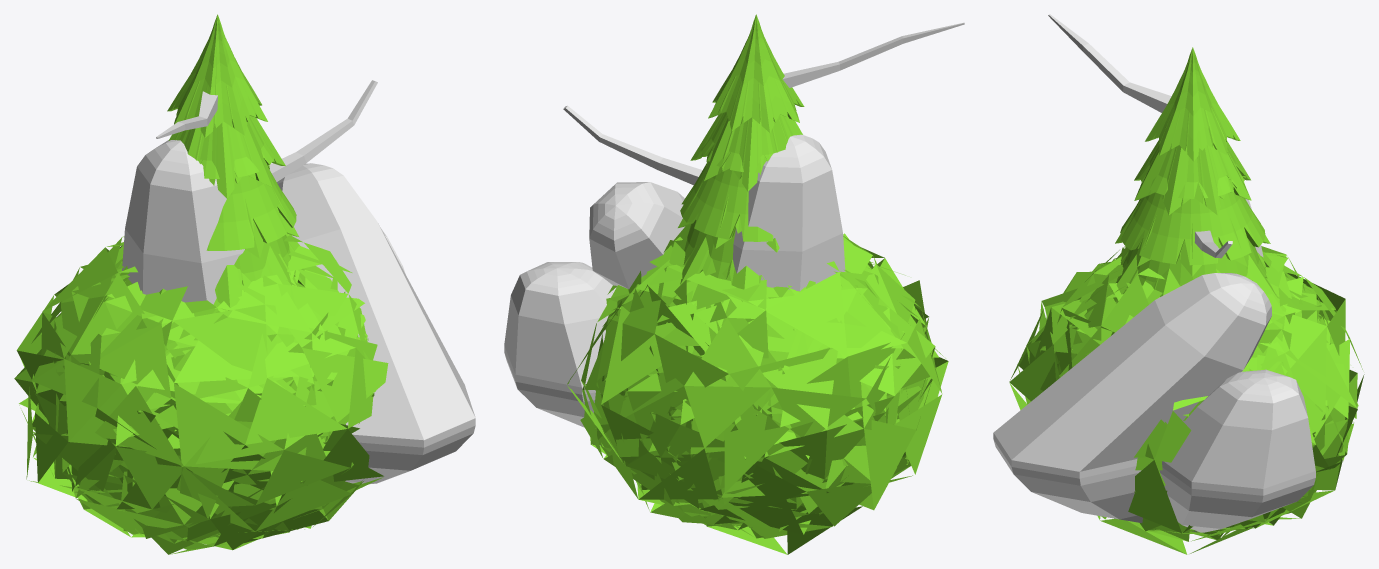
Rendered from LowPolyTree.fbx.
3 views of the same model, side by side, from view 1: azimuth 30°, elevation 25°; view 2: azimuth 150°, elevation 25°; view 3: azimuth 270°, elevation 25° (orthographic). The views are drawn at different scales.
Parts seen in each view (by area): view 1: Bush, Rock, SpikyPine, RoundPine, Trunk2; view 2: Bush, Rock, SpikyPine, RoundPine, Trunk2; view 3: Rock, Bush, SpikyPine, RoundPine, Trunk2.
Boxes of the visible parts, <box> form: Bush: <box>14,235,388,554</box>; Rock: <box>122,140,475,484</box>; SpikyPine: <box>120,14,299,310</box>; RoundPine: <box>179,16,305,309</box>; Trunk2: <box>156,80,377,181</box>; Bush: <box>567,233,948,554</box>; Rock: <box>504,134,845,427</box>; SpikyPine: <box>671,14,845,289</box>; RoundPine: <box>680,15,793,301</box>; Trunk2: <box>563,22,964,185</box>; Rock: <box>993,199,1315,532</box>; Bush: <box>1009,246,1364,554</box>; SpikyPine: <box>1112,47,1276,297</box>; RoundPine: <box>1113,145,1266,302</box>; Trunk2: <box>1048,14,1232,258</box>.
Bounding box in the file's own units: 442 × 558 × 386.
